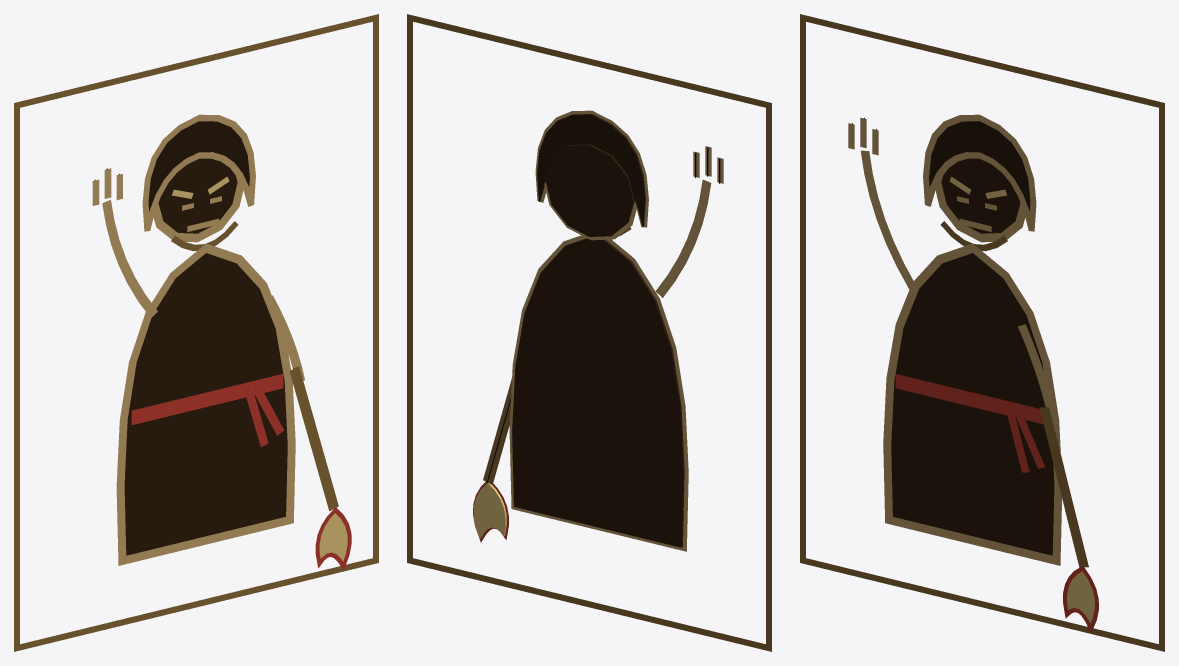
File: npc-vozhak-fanatikov.glb
3 renders of one model, left to right at view 1: azimuth 30°, elevation 25°; view 2: azimuth 150°, elevation 25°; view 3: azimuth 330°, elevation 25°, orthographic.
Parts seen in each view (by area): view 1: npc-vozhak-fanatikov; view 2: npc-vozhak-fanatikov; view 3: npc-vozhak-fanatikov.
Boxes of the visible parts, x1=… form: npc-vozhak-fanatikov: x1=14, y1=14, x2=378, y2=651; npc-vozhak-fanatikov: x1=407, y1=14, x2=771, y2=651; npc-vozhak-fanatikov: x1=800, y1=14, x2=1164, y2=651.
Bounding box in the file's own units: 1.14 × 1.64 × 0.1054.
